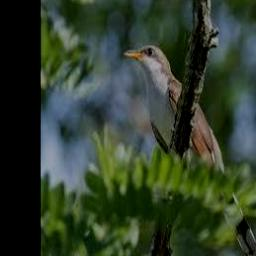Cuckoo: (123, 45, 256, 256)
